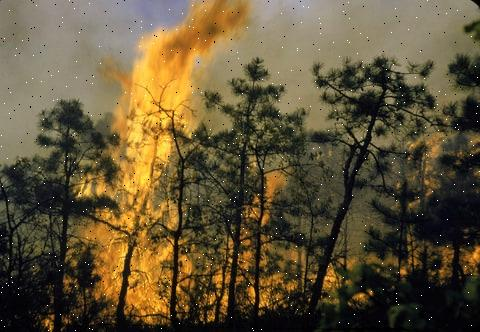fire: (42, 0, 253, 332), (255, 236, 478, 322)
